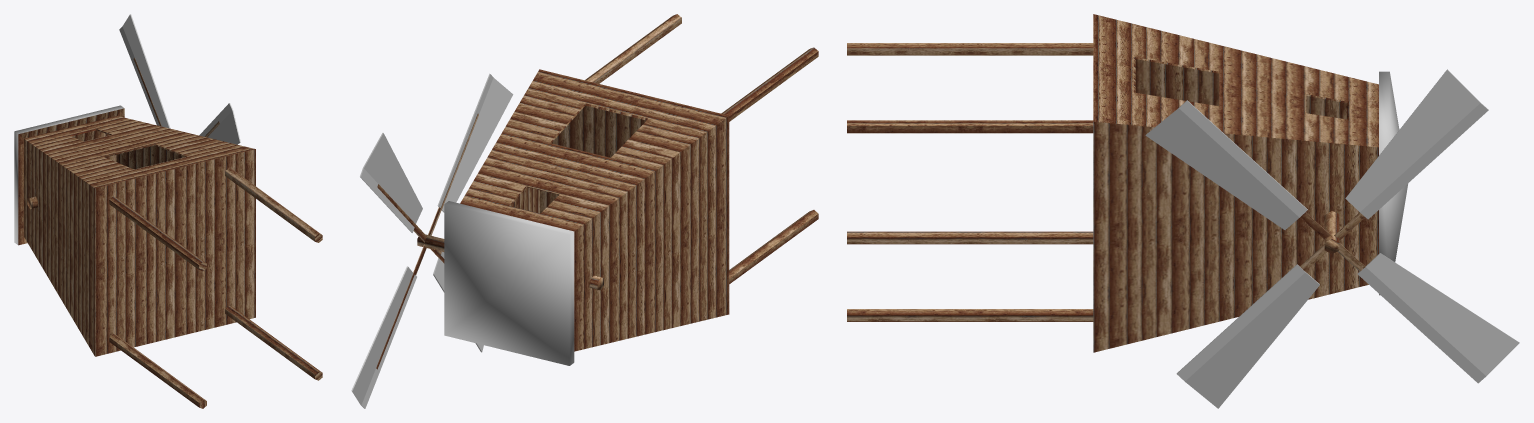
The model's file is windmill.fbx.
3 views of the same model, side by side, from view 1: azimuth 30°, elevation 25°; view 2: azimuth 150°, elevation 25°; view 3: azimuth 270°, elevation 25° (orthographic). The views are drawn at different scales.
Visible parts, largest first — view 1: Windmill; view 2: Windmill; view 3: Windmill.
Boxes of the visible parts, x1,y1,x2,y2 form: Windmill: [14, 14, 322, 408]; Windmill: [351, 14, 818, 408]; Windmill: [847, 14, 1519, 408].
Size of the model in its own units: 11.08 by 14.99 by 26.93.
